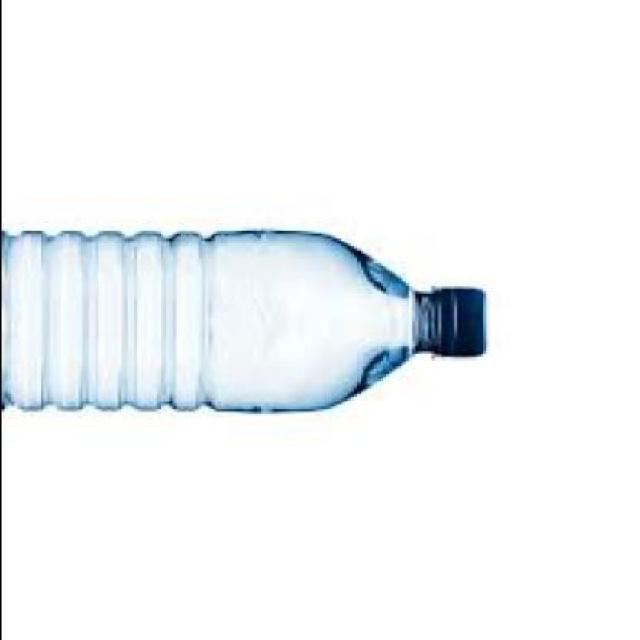PLASTIC: (3, 231, 488, 414), (430, 290, 488, 362)
